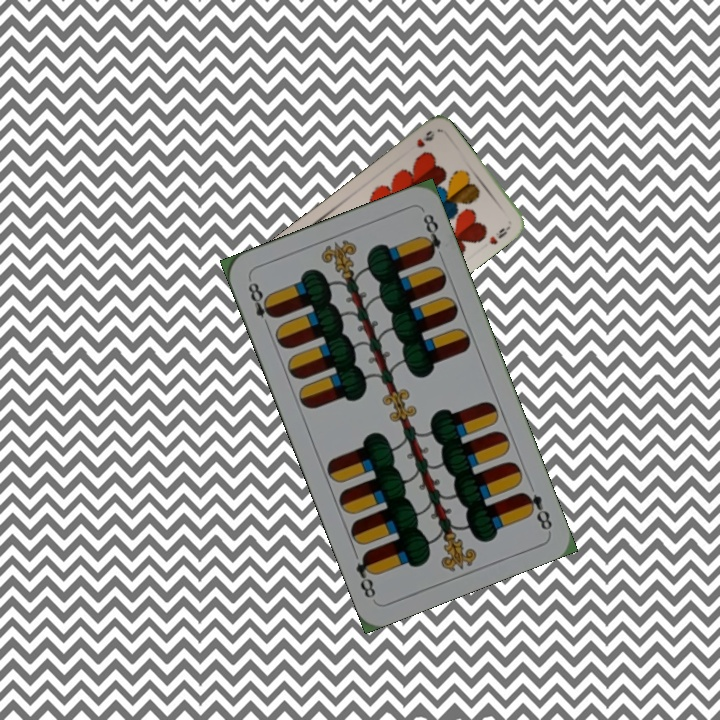E8: (244, 278, 278, 332), (517, 488, 555, 533)
H9: (412, 126, 437, 150)
